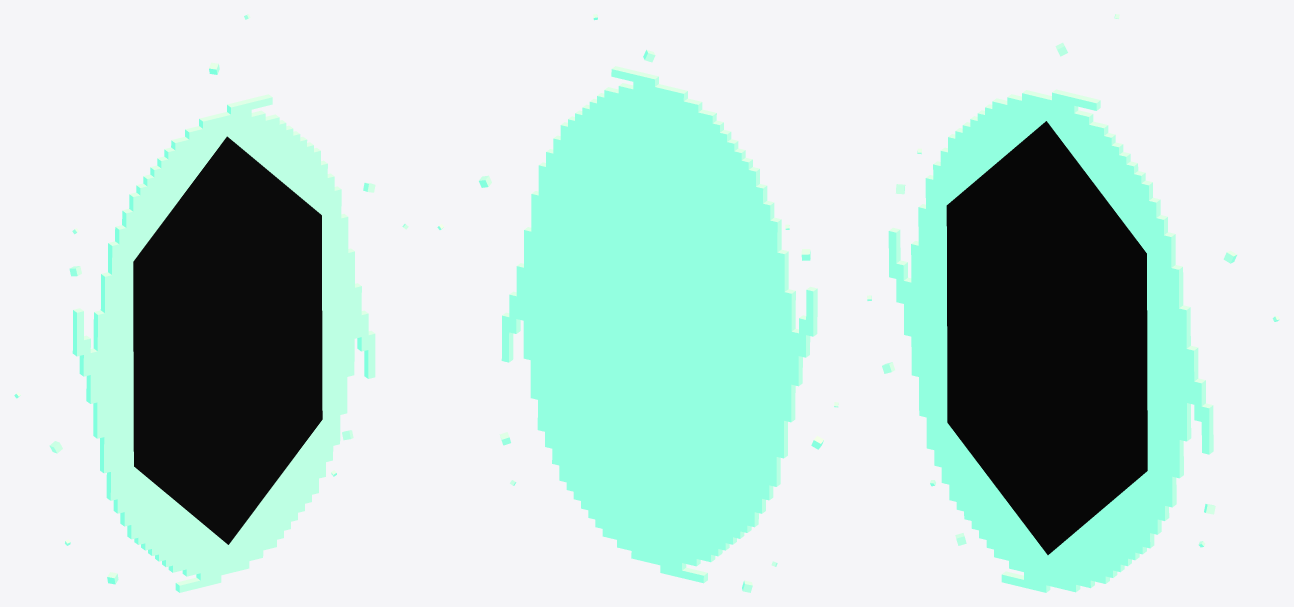
File: portal-blue.glb
3 renders of one model, left to right at view 1: azimuth 30°, elevation 25°; view 2: azimuth 150°, elevation 25°; view 3: azimuth 330°, elevation 25°, orthographic. The views are drawn at different scales.
Parts seen in each view (by area): view 1: Circle, Blue; view 2: Blue; view 3: Circle, Blue.
Boxes of the visible parts, x1,y1,x2,y2 form: Circle: (133, 136, 322, 544); Blue: (14, 14, 408, 592); Blue: (437, 14, 838, 592); Circle: (946, 121, 1147, 554); Blue: (867, 14, 1279, 592).
Bounding box in the file's own units: 5.6 × 7.42 × 0.6871.
